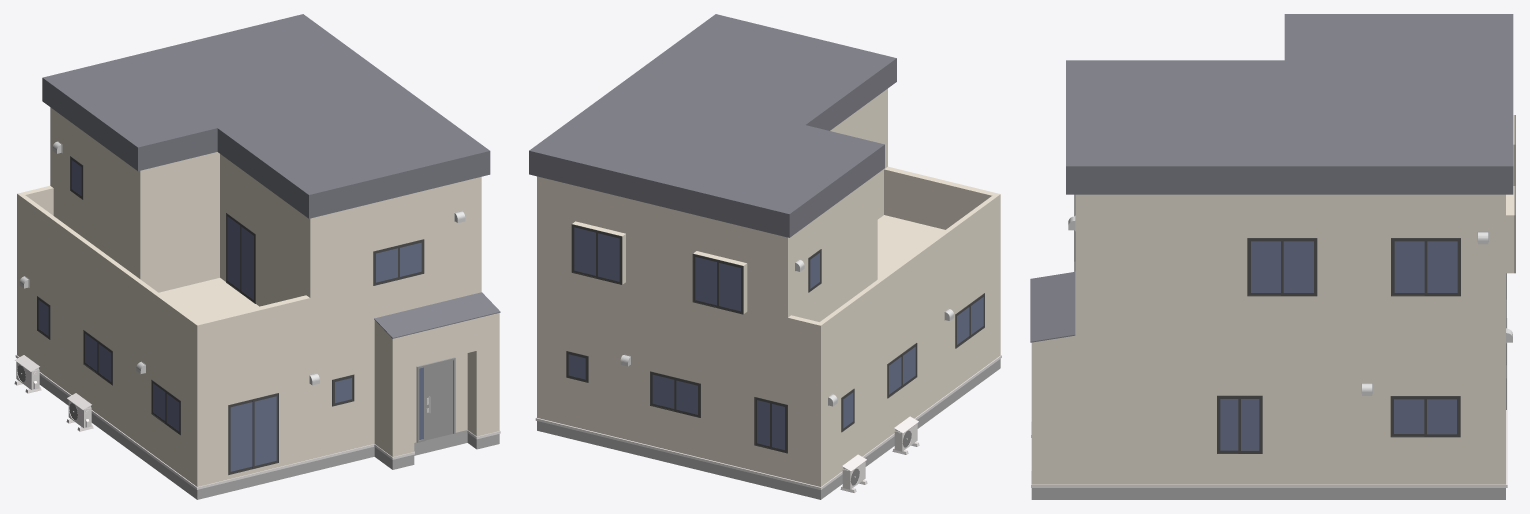
File: MobHouse60.fbx
3 views of the same model, side by side, from view 1: azimuth 30°, elevation 25°; view 2: azimuth 150°, elevation 25°; view 3: azimuth 270°, elevation 25° (orthographic). The views are drawn at different scales.
Parts seen in each view (by area): view 1: Flat_half_house02.019; view 2: Flat_half_house02.019; view 3: Flat_half_house02.019.
Part boxes in pixels (bbox=[...]): Flat_half_house02.019: bbox=[14, 14, 500, 499]; Flat_half_house02.019: bbox=[529, 14, 1001, 499]; Flat_half_house02.019: bbox=[1030, 14, 1515, 499].
Bounding box in the file's own units: 7.89 × 6.9 × 9.01.
